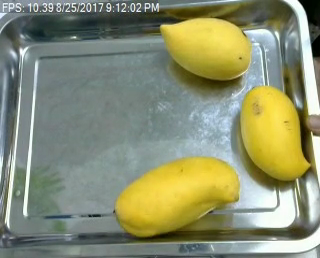Mango: (112, 156, 240, 242), (238, 84, 311, 181), (156, 15, 252, 79)
